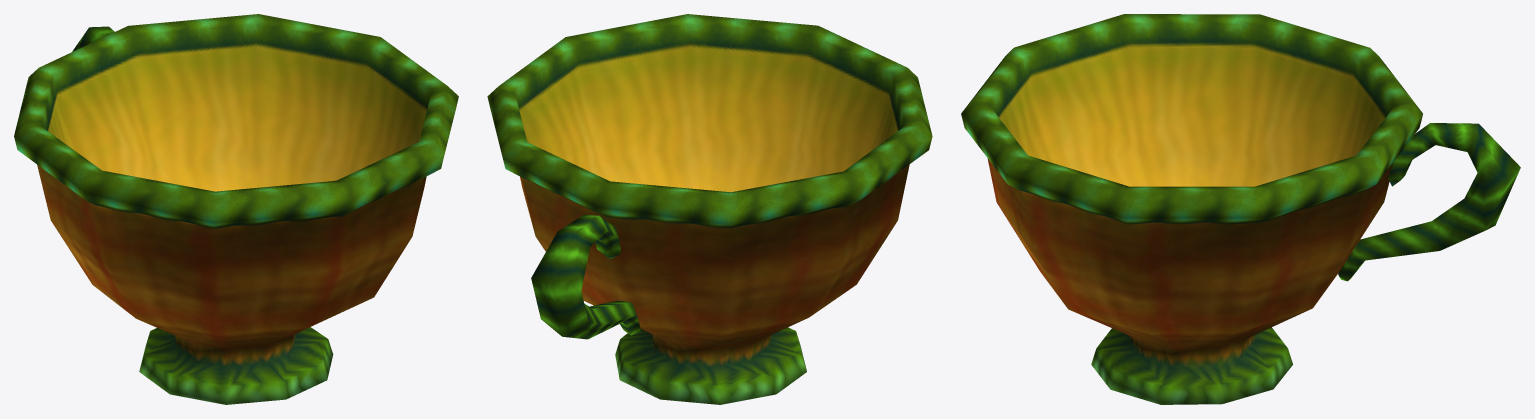
Rendered from Teacup_WHITE_RABBIT.dae.
The picture shows the model from 3 angles, left to right: view 1: azimuth 30°, elevation 25°; view 2: azimuth 150°, elevation 25°; view 3: azimuth 270°, elevation 25°; orthographic projection.
Visible parts, largest first — view 1: mesh0; view 2: mesh0; view 3: mesh0.
Part boxes in pixels (x1,y1,x2,y2): mesh0: (14,14,458,404); mesh0: (487,14,932,404); mesh0: (961,14,1520,404).
Size of the model in its own units: 0.2047 by 0.1379 by 0.2606.
